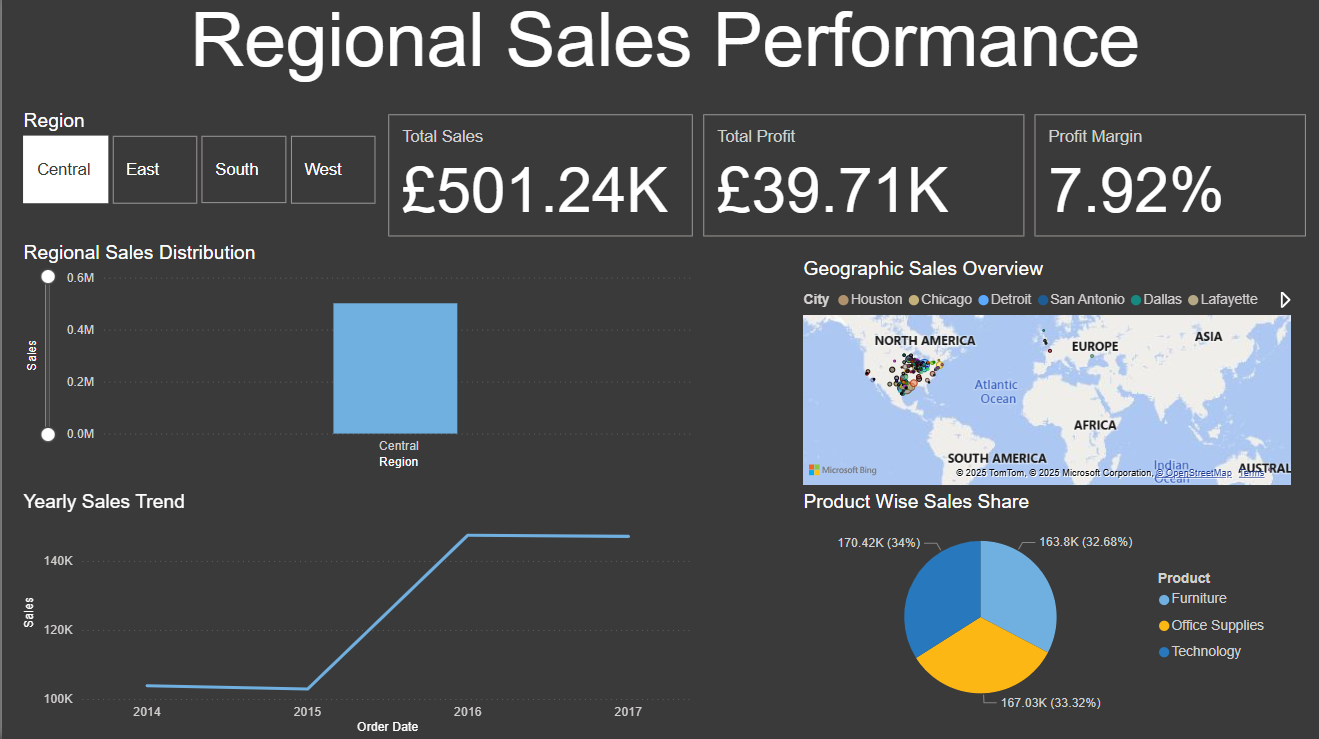

Layout of this report page (visuals, bound fields, positions):
{"tool":"powerbi","page":{"name":"Sales Performance Dashboard","canvas":[1280,720],"ordinal":0},"visuals":[{"type":"group","id":"g1","title":"Group 1","box":[368,112,896,336],"z":0},{"type":"cardVisual","fields":{"Data":["Sample_ Superstore.Total Sales"]},"box":[368,112,304,128],"z":0,"group":"g2"},{"type":"cardVisual","fields":{"Data":["Sample_ Superstore.Total Profit"]},"box":[672,112,320,128],"z":1000,"group":"g2"},{"type":"columnChart","title":" Regional Sales Distribution","fields":{"Category":["Sample_ Superstore.Region"],"Y":["Sum(Sample_ Superstore.Sales)"]},"box":[16,240,656,224],"z":1000},{"type":"cardVisual","fields":{"Data":["Sample_ Superstore.Profit Margin"]},"box":[992,112,272,128],"z":2000,"group":"g2"},{"type":"pieChart","title":"Product Wise Sales Share","fields":{"Y":["Sum(Sample_ Superstore.Sales)"],"Series":["Sample_ Superstore.Category"]},"box":[768,480,464,224],"z":2000},{"type":"group","id":"g2","title":"Group 4","box":[368,112,896,128],"z":2002,"group":"g1"},{"type":"textbox","box":[0,0,1280,96],"z":3000},{"type":"textbox","box":[400,290.8,254.6,157.2],"z":3000,"group":"g1"},{"type":"lineChart","title":"Yearly Sales Trend","fields":{"Y":["Sum(Sample_ Superstore.Sales)"],"Category":["Sample_ Superstore.Order Date"]},"box":[16,480,656,240],"z":4000},{"type":"map","title":"Geographic Sales Overview","fields":{"Category":["Sample_ Superstore.City"],"Size":["Sum(Sample_ Superstore.Sales)"],"Series":["Sample_ Superstore.City"]},"box":[768,256,480,224],"z":5000},{"type":"advancedSlicerVisual","fields":{"Values":["Sample_ Superstore.Region"]},"box":[32,112,336,96],"z":6000}]}

Visuals, with their boxes in screenshot pixels (x1, y1, x2, y2), scaled from the page's 1280x720 canvas onto the 1319x739 screenshot:
"Group 1" group: (left=379, top=115, right=1303, bottom=460)
cardVisual - Sample_ Superstore.Total Sales: (left=379, top=115, right=692, bottom=246)
cardVisual - Sample_ Superstore.Total Profit: (left=692, top=115, right=1022, bottom=246)
" Regional Sales Distribution" columnChart: (left=16, top=246, right=692, bottom=476)
cardVisual - Sample_ Superstore.Profit Margin: (left=1022, top=115, right=1303, bottom=246)
"Product Wise Sales Share" pieChart: (left=791, top=493, right=1270, bottom=723)
"Group 4" group: (left=379, top=115, right=1303, bottom=246)
textbox: (left=0, top=0, right=1318, bottom=99)
textbox: (left=412, top=298, right=675, bottom=460)
"Yearly Sales Trend" lineChart: (left=16, top=493, right=692, bottom=738)
"Geographic Sales Overview" map: (left=791, top=263, right=1286, bottom=493)
advancedSlicerVisual - Sample_ Superstore.Region: (left=33, top=115, right=379, bottom=213)
